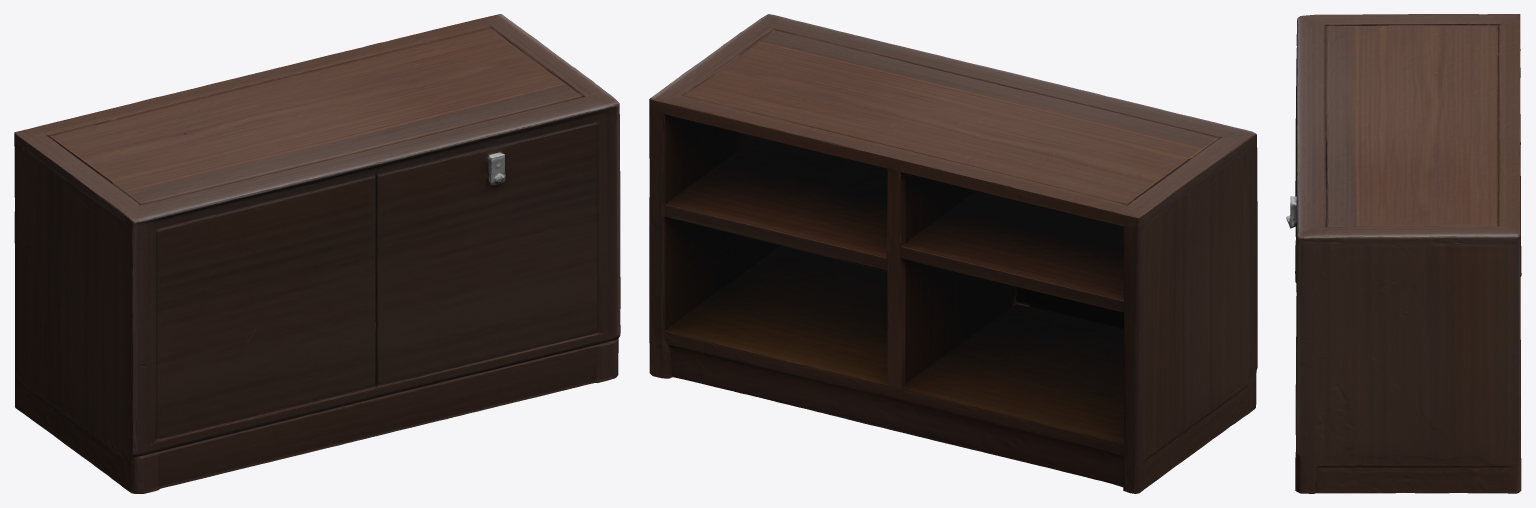
The picture shows the model from 3 angles, left to right: view 1: azimuth 30°, elevation 25°; view 2: azimuth 150°, elevation 25°; view 3: azimuth 270°, elevation 25°; orthographic projection. The views are drawn at different scales.
Visible parts, largest first — view 1: world; view 2: world; view 3: world.
Boxes of the visible parts, bbox=[...] form: world: bbox=[14, 14, 620, 493]; world: bbox=[649, 14, 1257, 493]; world: bbox=[1286, 14, 1521, 493].
Bounding box in the file's own units: 1 × 0.5432 × 0.4468.
Materials: 1 (1 with a texture image).
